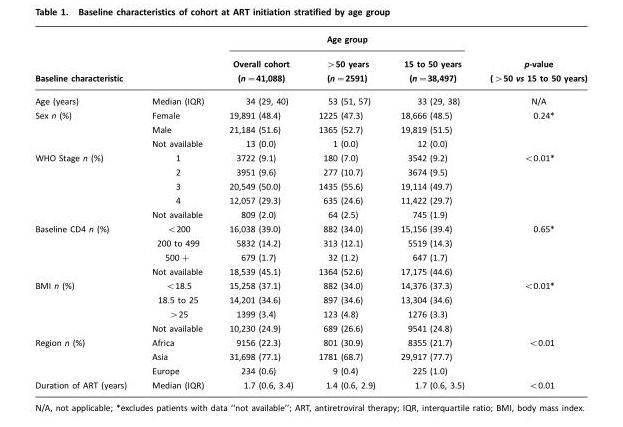table: (34, 34, 586, 390)
table column: (476, 34, 586, 390), (34, 34, 138, 390), (215, 34, 305, 390), (387, 34, 476, 390), (305, 34, 387, 390), (138, 34, 215, 390)
table column header: (34, 34, 586, 89)
table row: (34, 50, 586, 89), (34, 89, 586, 107), (34, 34, 586, 50), (34, 277, 586, 293), (34, 334, 586, 350), (34, 107, 586, 122), (34, 150, 586, 165), (34, 178, 586, 193), (34, 221, 586, 236), (34, 249, 586, 264), (34, 306, 586, 321), (34, 122, 586, 136), (34, 136, 586, 150), (34, 193, 586, 207), (34, 207, 586, 221), (34, 363, 586, 377), (34, 165, 586, 178), (34, 236, 586, 249), (34, 264, 586, 277), (34, 293, 586, 306), (34, 321, 586, 334), (34, 350, 586, 363), (34, 377, 586, 390)
table spanning cell: (34, 150, 138, 221), (476, 34, 586, 89), (34, 277, 138, 334), (34, 221, 138, 277), (34, 34, 138, 89), (34, 107, 138, 150), (34, 334, 138, 377), (215, 34, 476, 50)
